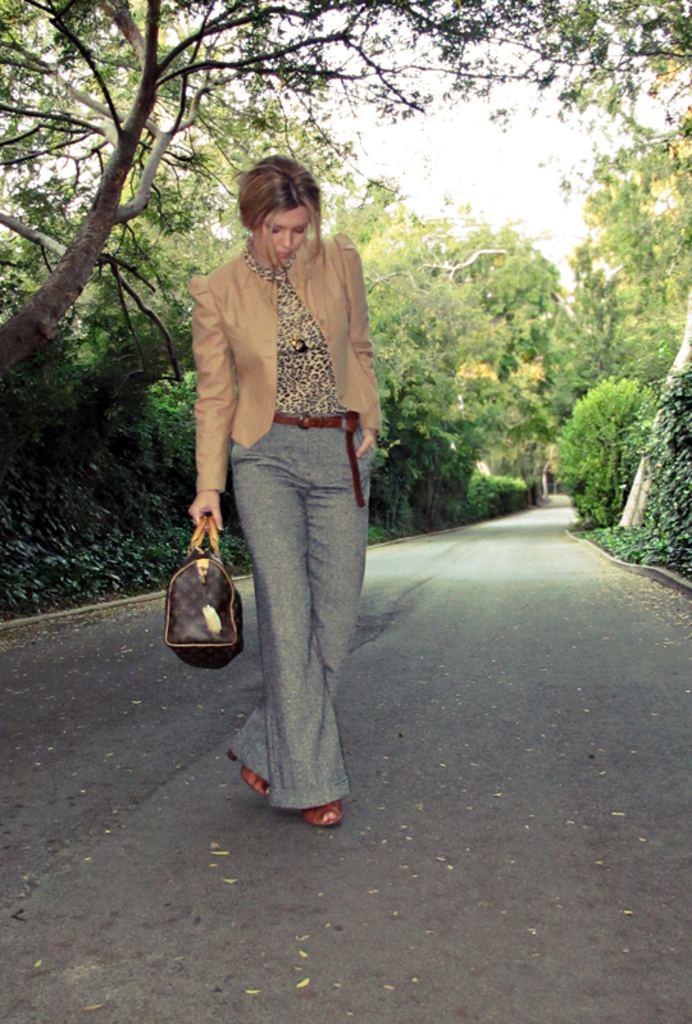Footwear: (304, 793, 349, 828), (228, 750, 264, 793)
